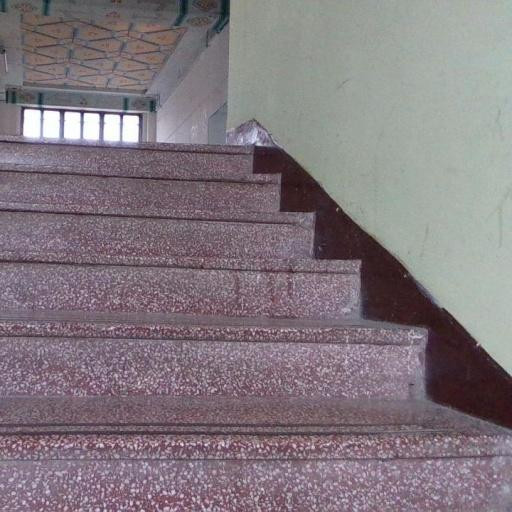stairs: (0, 137, 511, 511)
